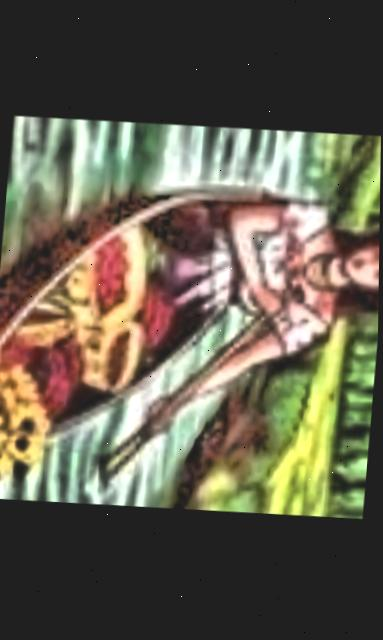La Chalupa: (0, 111, 382, 524)
